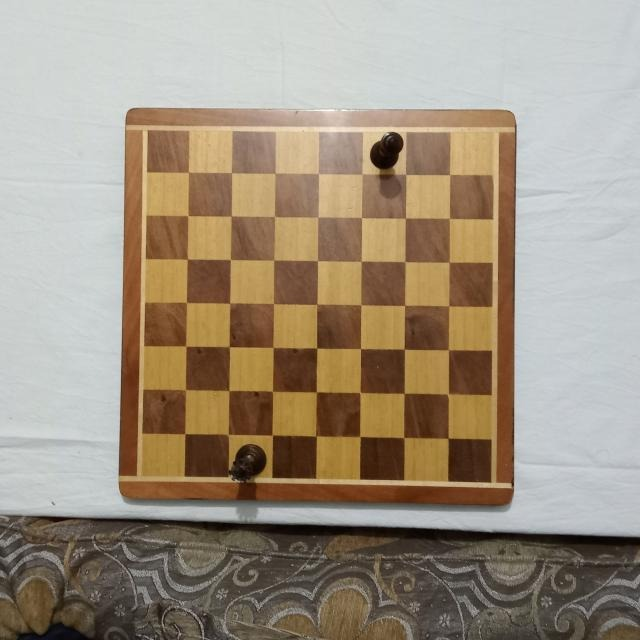black-king: (368, 132, 404, 172)
black-queen: (228, 442, 268, 482)
